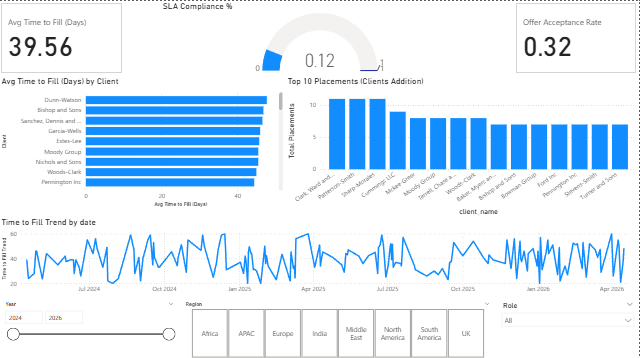

This screenshot's page, from the dashboard's own definition file:
{"tool":"powerbi","page":{"name":"Client SLA & Time to Fill","canvas":[1280,720],"ordinal":3},"visuals":[{"type":"cardVisual","fields":{"Data":["KPI_Measures.Avg Time to Fill (Days)"]},"box":[0,0,251.5,149.4],"z":0},{"type":"cardVisual","fields":{"Data":["KPI_Measures.Offer Acceptance Rate"]},"box":[1030.4,0,249.6,149.4],"z":1},{"type":"barChart","fields":{"Category":["clients.client_name"],"Y":["KPI_Measures.Avg Time to Fill (Days)"]},"box":[0,149.4,572.9,268.5],"z":2},{"type":"columnChart","title":"Top 10 Placements (Clients Addition)","fields":{"Category":["clients.client_name"],"Y":["KPI_Measures.Total Placements"]},"box":[572.9,149.4,707.1,283.6],"z":3},{"type":"lineChart","fields":{"Category":["dates.date"],"Y":["KPI_Measures.Avg Time to Fill (Days)"]},"box":[0,433,1280,162.6],"z":4},{"type":"slicer","fields":{"Values":["dates.year"]},"box":[0,595.6,361.1,124.8],"z":5},{"type":"slicer","fields":{"Values":["clients.region"]},"box":[361.1,595.6,633.4,124.8],"z":6},{"type":"slicer","fields":{"Values":["roles.role_title"]},"box":[994.5,595.6,285.5,124.8],"z":7},{"type":"gauge","title":"SLA Compliance %","fields":{"Y":["KPI_Measures.SLA Compliance %"],"TargetValue":["KPI_Measures.SLA Target"],"MinValue":["KPI_Measures.Gauge Min"],"MaxValue":["KPI_Measures.Gauge Max"]},"box":[321.4,0,639.1,149.4],"z":8}]}

Visuals, with their boxes in screenshot pixels (x1, y1, x2, y2), scaled from the page's 1280x720 canvas onto the 640x358 screenshot:
cardVisual - KPI_Measures.Avg Time to Fill (Days): x1=0 y1=0 x2=126 y2=74
cardVisual - KPI_Measures.Offer Acceptance Rate: x1=515 y1=0 x2=639 y2=74
barChart - clients.client_name x KPI_Measures.Avg Time to Fill (Days): x1=0 y1=74 x2=286 y2=208
"Top 10 Placements (Clients Addition)" columnChart: x1=286 y1=74 x2=639 y2=215
lineChart - dates.date x KPI_Measures.Avg Time to Fill (Days): x1=0 y1=215 x2=639 y2=296
slicer - dates.year: x1=0 y1=296 x2=181 y2=357
slicer - clients.region: x1=181 y1=296 x2=497 y2=357
slicer - roles.role_title: x1=497 y1=296 x2=639 y2=357
"SLA Compliance %" gauge: x1=161 y1=0 x2=480 y2=74
